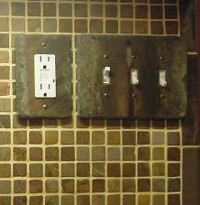outlet: (37, 54, 52, 71), (38, 82, 53, 97)
